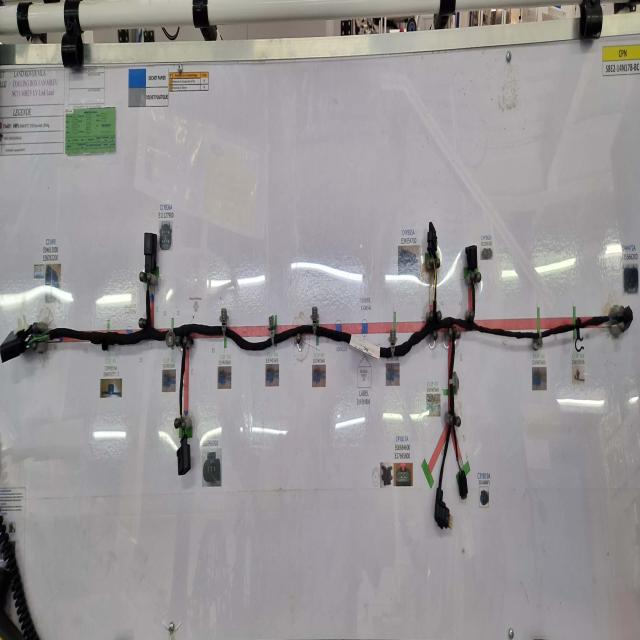Clip: (532, 314, 542, 348), (221, 306, 230, 337), (269, 314, 277, 348), (575, 313, 582, 350), (311, 305, 319, 336), (165, 325, 176, 346), (392, 325, 399, 357), (459, 351, 469, 370), (104, 330, 110, 350)
Connector: (434, 485, 452, 532), (0, 329, 25, 362), (177, 435, 192, 478), (143, 229, 156, 273), (428, 215, 438, 259), (465, 241, 477, 268), (621, 301, 631, 328), (459, 464, 467, 496)
Gape: (30, 325, 52, 344), (606, 312, 620, 332), (432, 263, 437, 310), (179, 409, 187, 433), (144, 270, 152, 290), (456, 454, 463, 473)
Info: (351, 333, 381, 360)
MHEV_N11_Cable: (51, 284, 612, 497)
